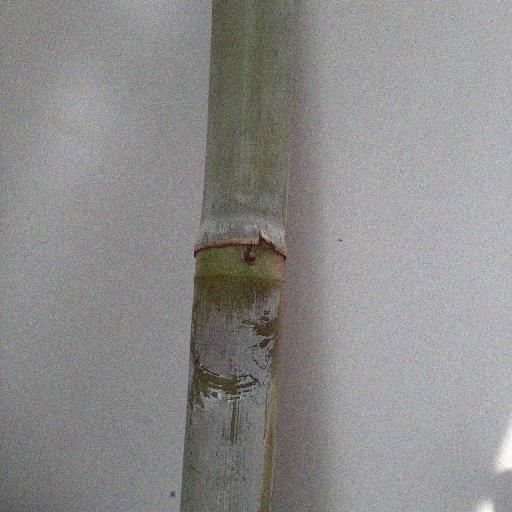Bud: (243, 245, 259, 268)
